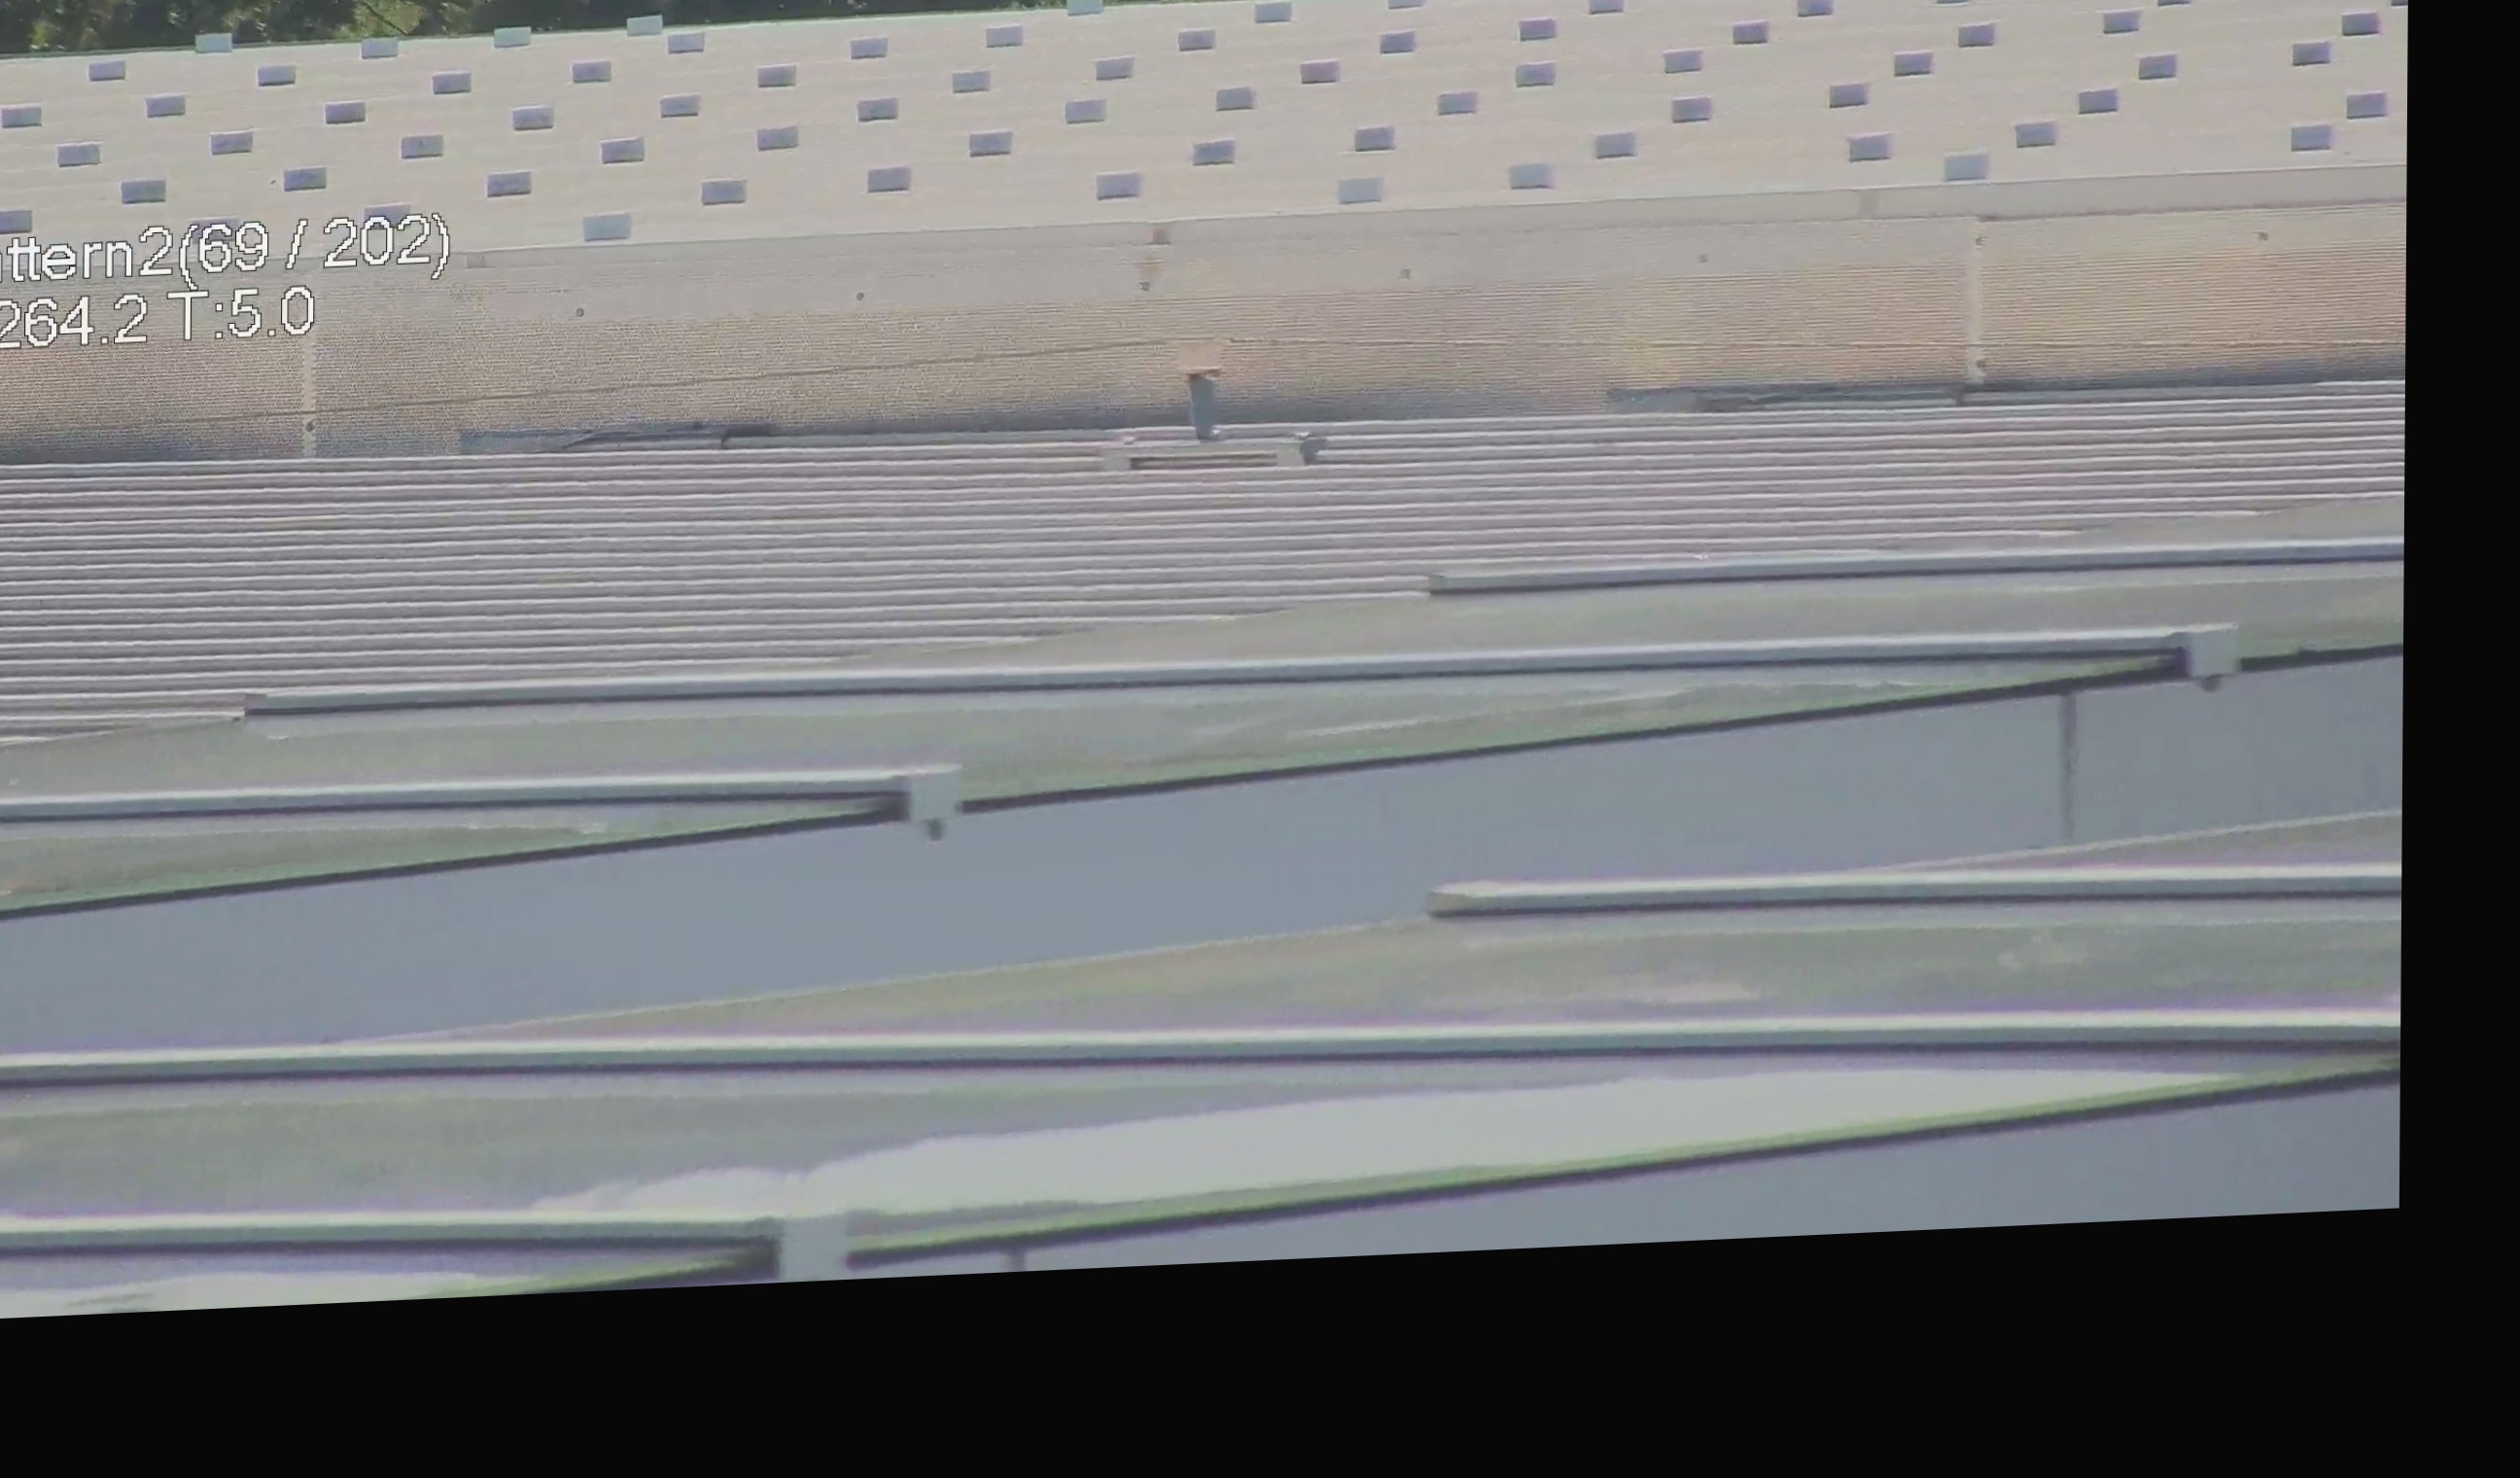Other: (1178, 359, 1236, 450)
